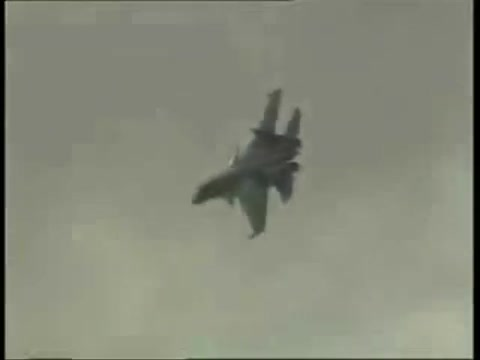aeroplane: (193, 90, 306, 241)
